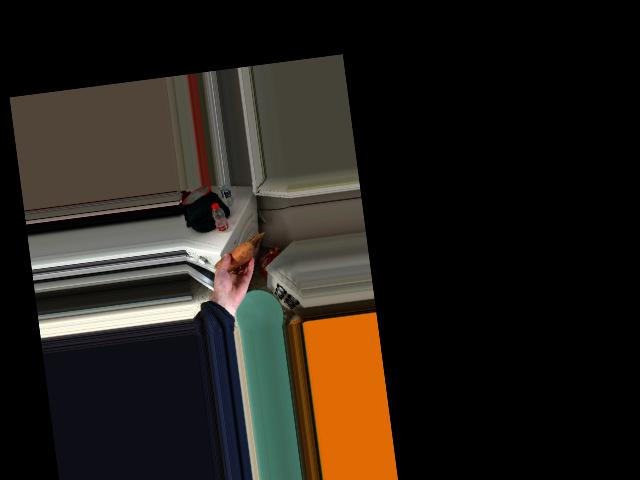sweet_potato: (217, 242, 253, 275)
